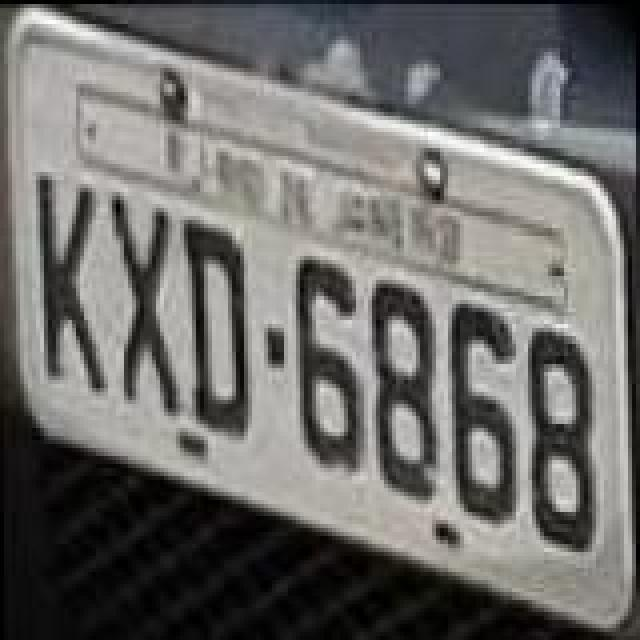6: (448, 292, 524, 524), (292, 246, 364, 478)
8: (524, 322, 600, 558), (372, 272, 440, 504)
D: (178, 216, 254, 440)
K: (32, 166, 112, 402)
X: (106, 188, 182, 420)
